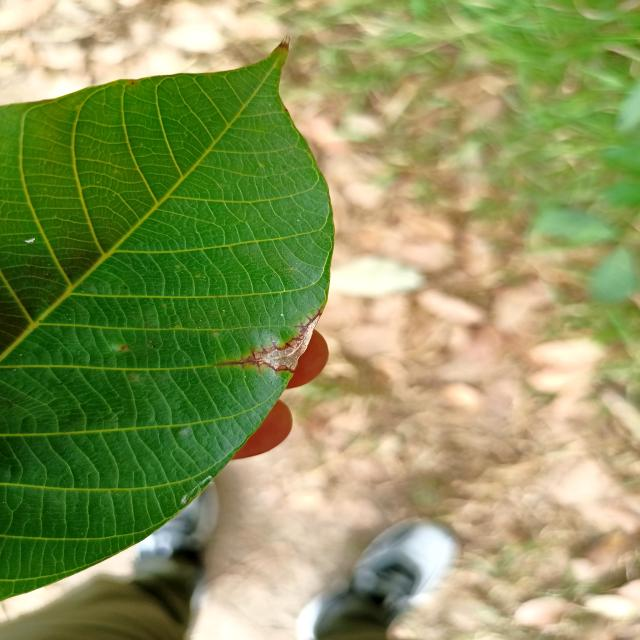Corynespora: (212, 310, 326, 374)
Leaf-Blight: (266, 316, 321, 372)
